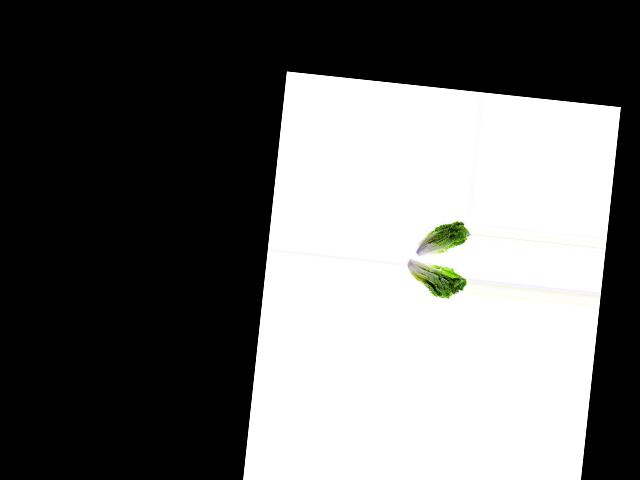lettuce: (409, 215, 470, 261)
